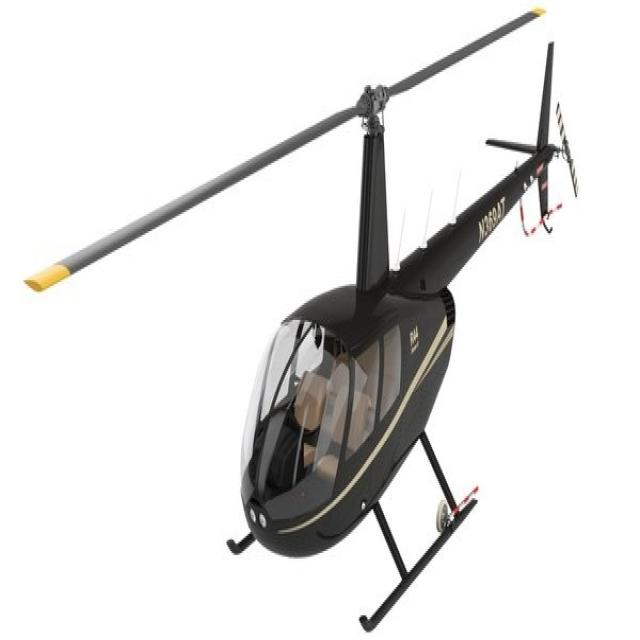CIV_HELO: (226, 40, 559, 632)
